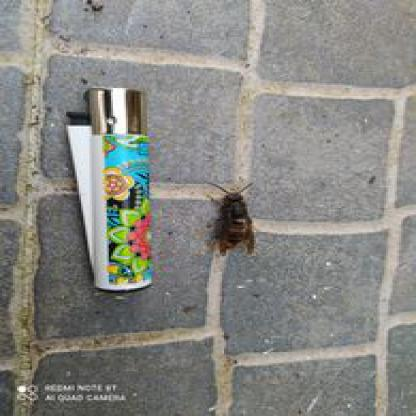Asian Hornet: (204, 184, 264, 258)
